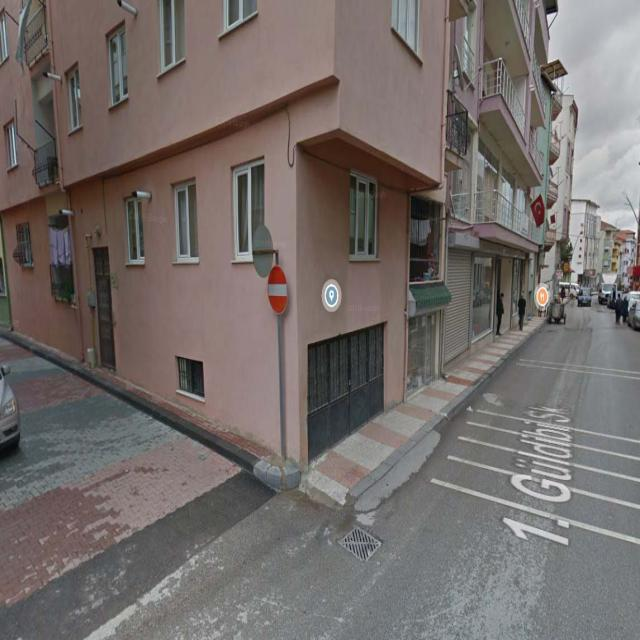girisyok: (267, 268, 289, 316)
